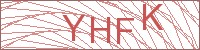F: (115, 17, 135, 46)
H: (89, 15, 112, 44)
K: (140, 2, 165, 31)
Y: (61, 14, 86, 42)
